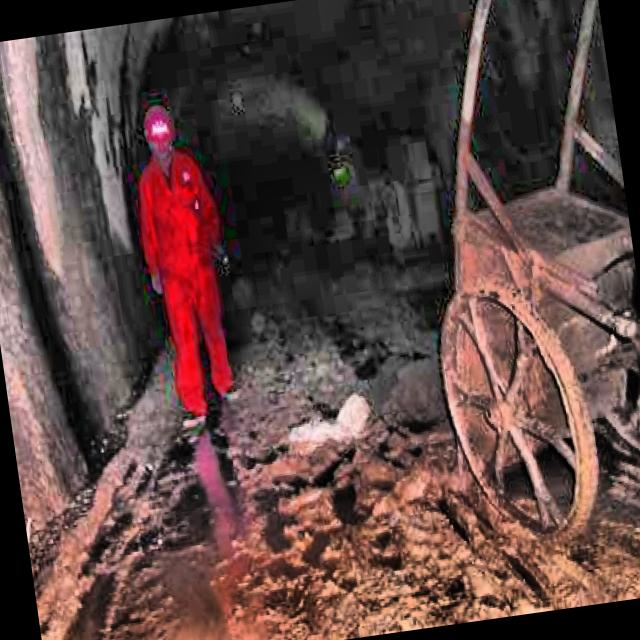helmet: (140, 104, 182, 167)
